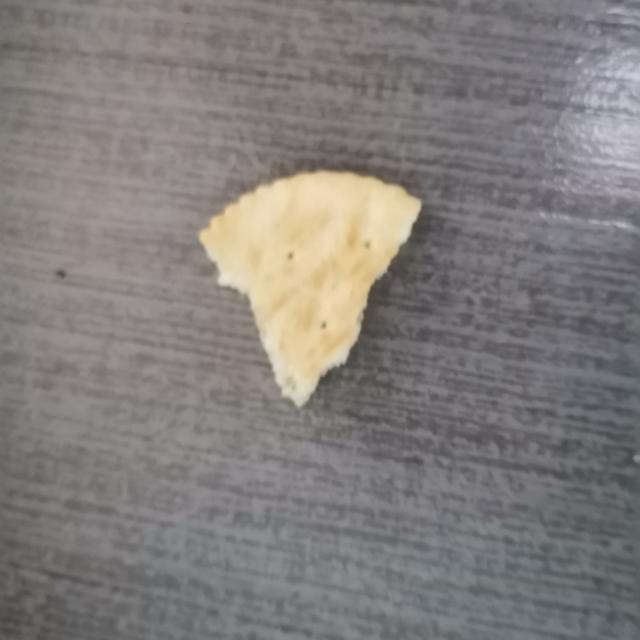Broken: (197, 167, 423, 409)
